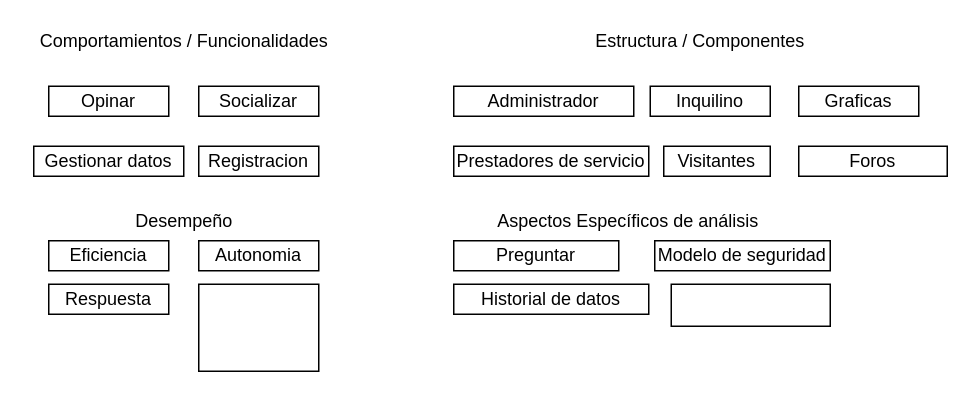
The diagram is 974 pixels wide and 398 high, and some of its shapes have lost their labels. The shapes that lost their labels are listed below. From the top down, each one's centre as x and y in pixels, then its label:
the point at 750,304: Red social entre habitantes
the point at 258,327: Actualizar a tiempo real la opinion de la comunidad
